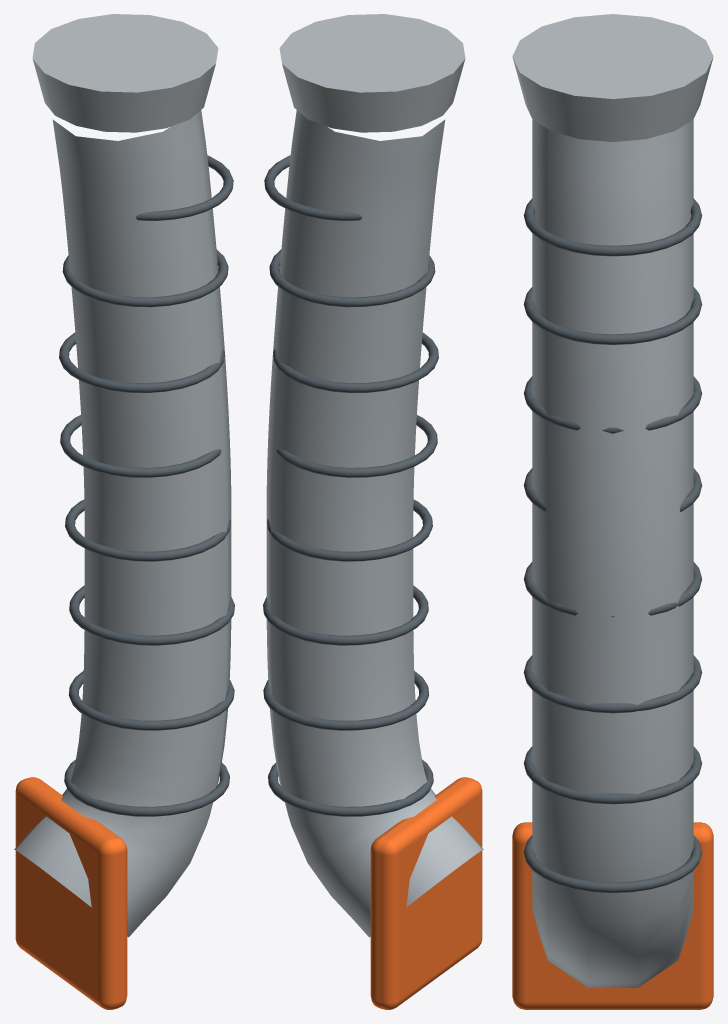
Rendered from vent-duct.glb.
The picture shows the model from 3 angles, left to right: view 1: azimuth 30°, elevation 25°; view 2: azimuth 150°, elevation 25°; view 3: azimuth 270°, elevation 25°; orthographic projection. The views are drawn at different scales.
Parts seen in each view (by area): view 1: vent-duct-aluminium, outlet-panel-grey, vent-duct-safety-orange, vent-duct-dark-steel; view 2: vent-duct-aluminium, outlet-panel-grey, vent-duct-safety-orange, vent-duct-dark-steel; view 3: vent-duct-aluminium, outlet-panel-grey, vent-duct-dark-steel, vent-duct-safety-orange.
Boxes of the visible parts, x1,y1,x2,y2 form: vent-duct-aluminium: [14, 110, 231, 937]; outlet-panel-grey: [32, 14, 218, 132]; vent-duct-safety-orange: [15, 777, 127, 1009]; vent-duct-dark-steel: [59, 155, 234, 816]; vent-duct-aluminium: [266, 110, 483, 937]; outlet-panel-grey: [279, 14, 465, 132]; vent-duct-safety-orange: [370, 777, 482, 1009]; vent-duct-dark-steel: [263, 155, 438, 816]; vent-duct-aluminium: [532, 119, 693, 987]; outlet-panel-grey: [512, 14, 713, 141]; vent-duct-dark-steel: [523, 198, 702, 893]; vent-duct-safety-orange: [512, 822, 713, 1009].
Size of the model in its own units: 0.3628 by 1.61 by 0.3.
